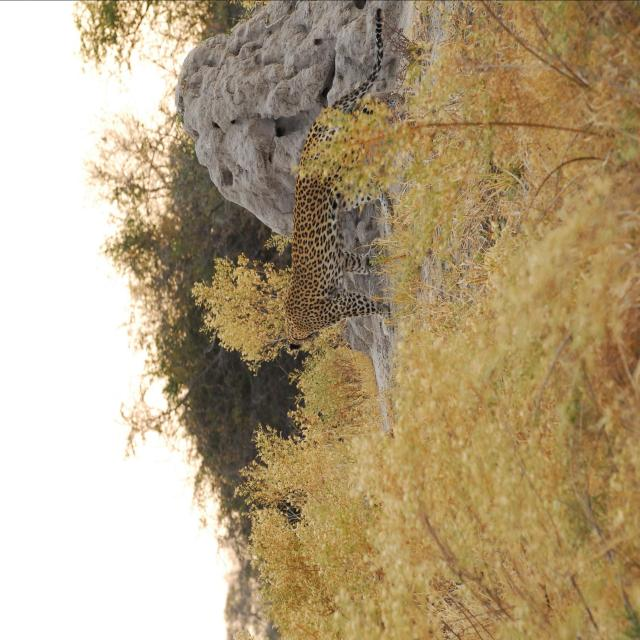Leopard: (252, 14, 443, 358)
